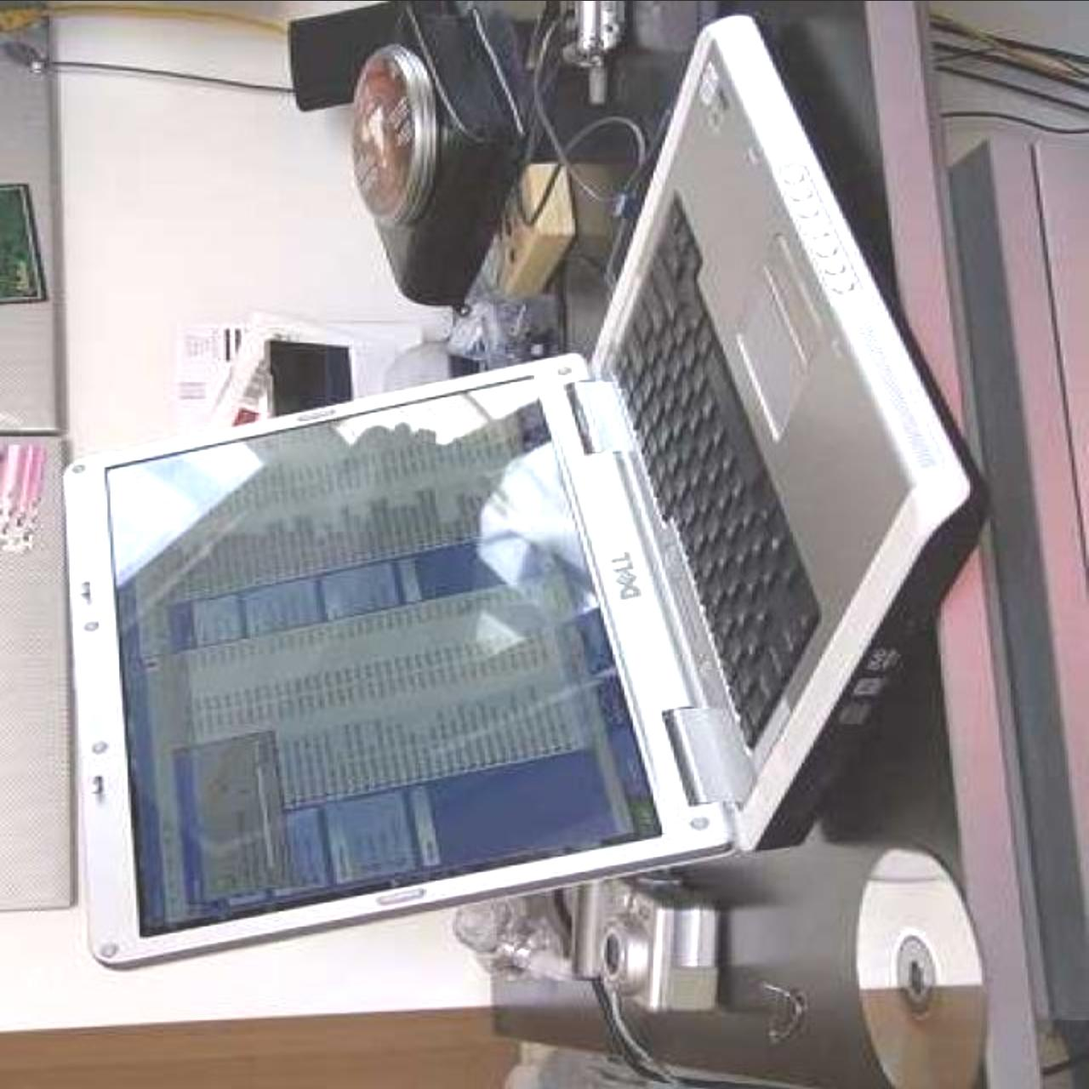laptop: (83, 11, 945, 949)
